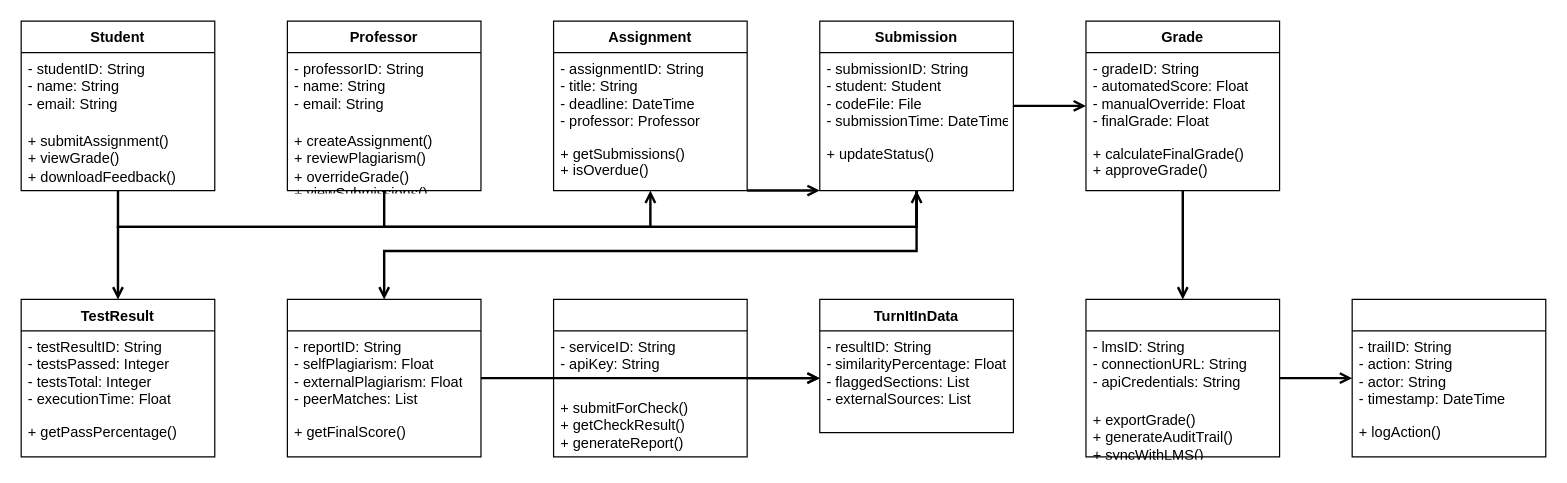
This 1567x483 diagram has some shape labels left out. The box of each missing label's shape, as (x1, y1, x2, y2) in pixels:
AuditTrail: (1351, 298, 1546, 457)
LMSIntegration: (1085, 298, 1280, 457)
PlagiarismReport: (286, 298, 481, 457)
TurnItInService: (552, 298, 747, 457)
